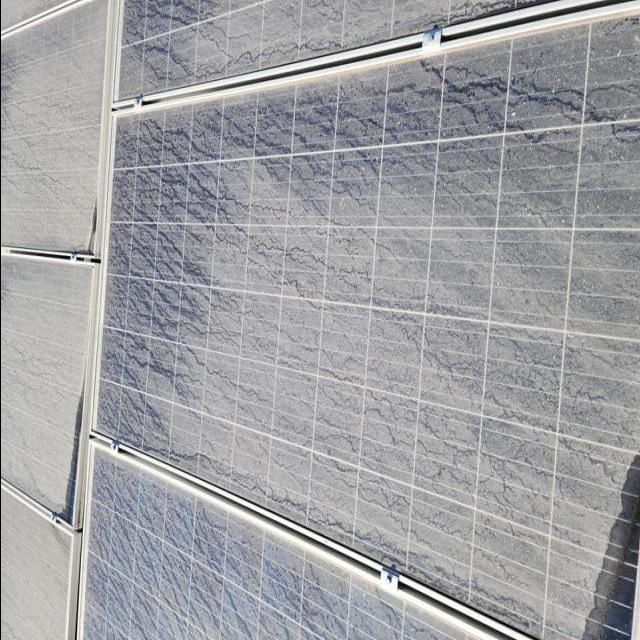soiled: (86, 2, 640, 640), (0, 9, 84, 640)
